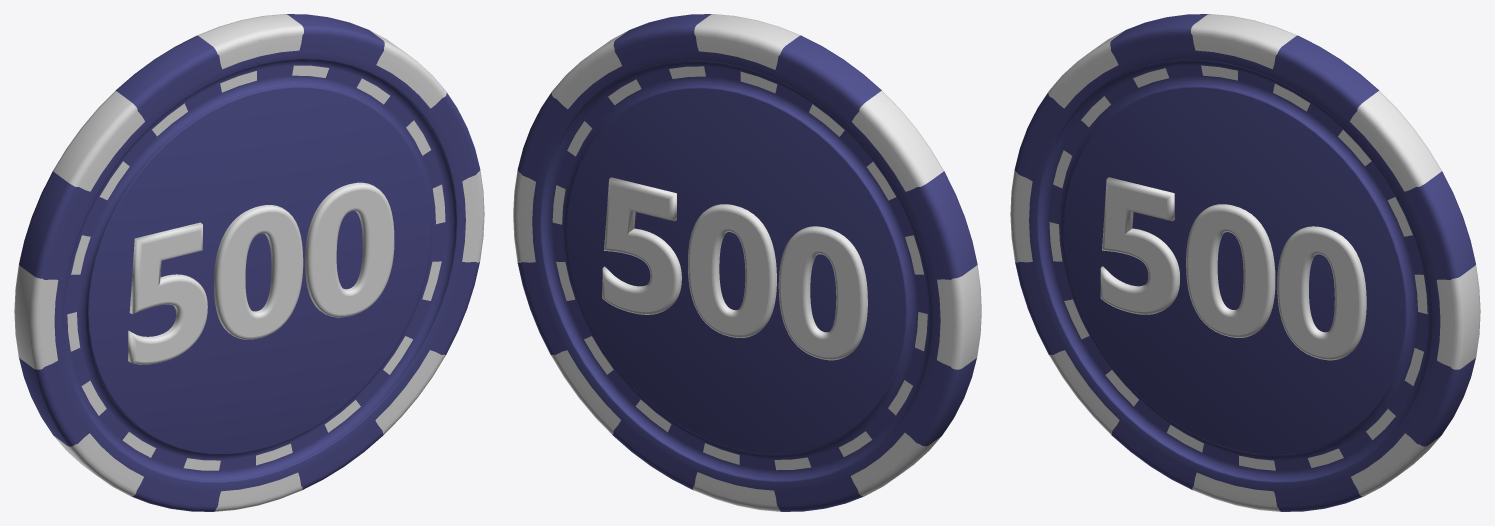
Rendered from poker_chip_500.glb.
3 views of the same model, side by side, from view 1: azimuth 30°, elevation 25°; view 2: azimuth 150°, elevation 25°; view 3: azimuth 330°, elevation 25° (orthographic).
Parts seen in each view (by area): view 1: Text.002_0; view 2: Text.002_0; view 3: Text.002_0.
Part boxes in pixels (x1,y1,x2,y2): Text.002_0: (14,14,484,511); Text.002_0: (513,14,981,511); Text.002_0: (1010,14,1480,511).
Size of the model in its own units: 0.0802 by 0.0802 by 0.00922.
